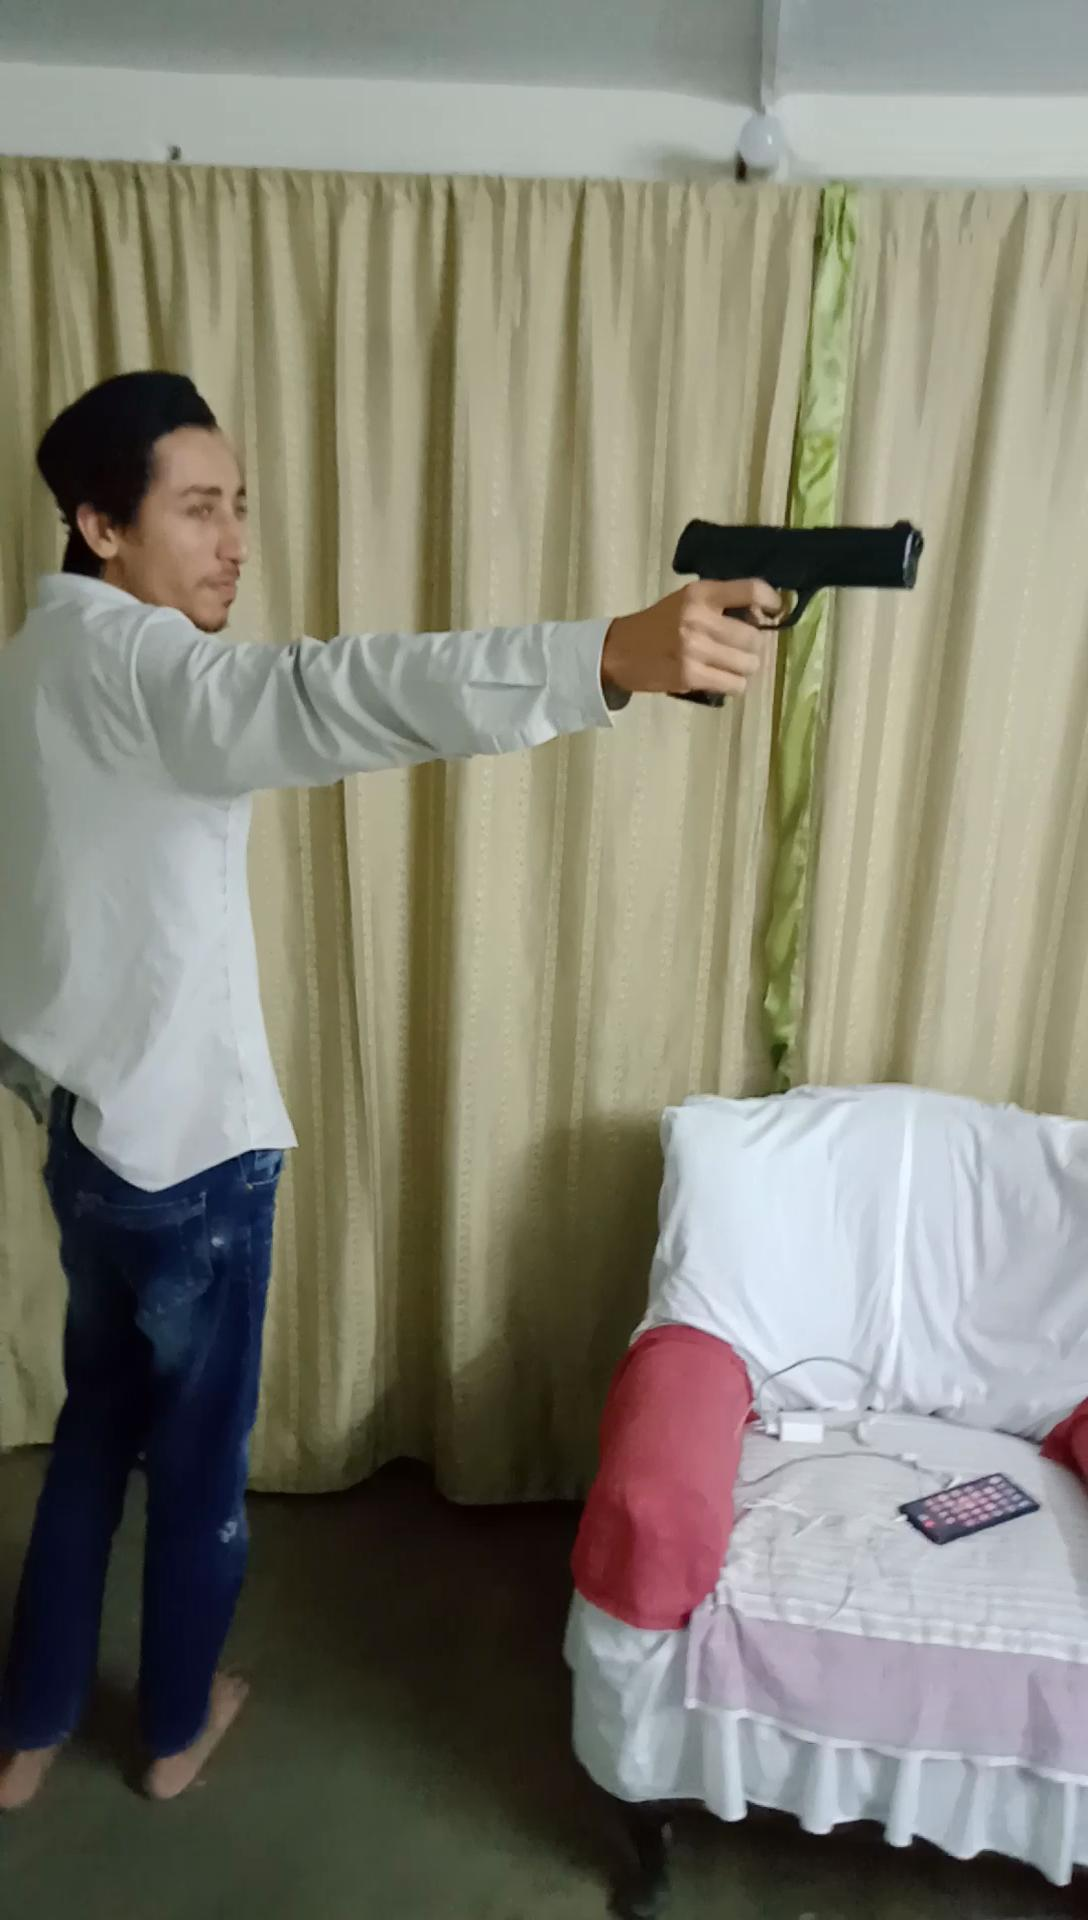criminal: (0, 361, 942, 1805)
weapon: (651, 512, 942, 720)
